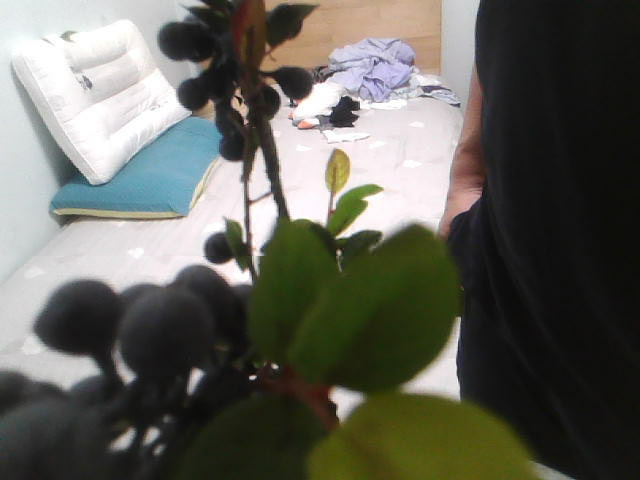blueberry: (43, 278, 113, 330), (54, 281, 112, 323), (3, 404, 57, 446), (75, 372, 125, 416), (177, 261, 223, 295), (151, 21, 189, 60), (156, 24, 195, 58), (216, 125, 247, 161), (251, 80, 283, 113), (170, 77, 200, 107)
